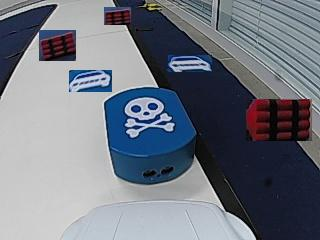danger: (126, 100, 172, 136)
